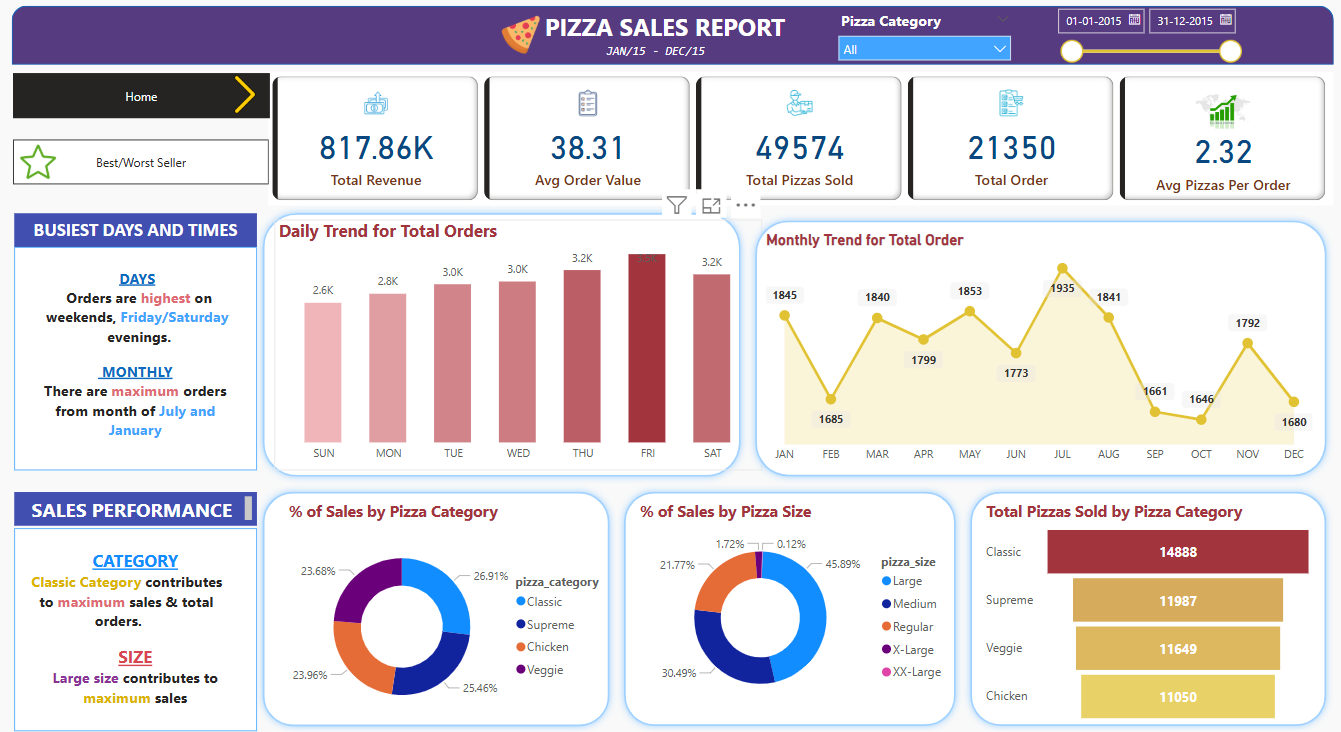

The dashboard page shown, as its layout file describes it:
{"tool":"powerbi","page":{"name":"Home","canvas":[1500,820],"ordinal":0},"visuals":[{"type":"cardVisual","fields":{"Data":["pizza_sales.Total Revenue","pizza_sales.Avg Order Value","pizza_sales.Total Pizzas Sold","pizza_sales.Total Order","pizza_sales.Avg Pizzas Per Order"]},"box":[301.2,83.8,1187.5,148.8],"z":0},{"type":"shape","box":[15.7,10,1472.9,65.7],"z":1000},{"type":"textbox","box":[597.5,10,291.2,50],"z":2000},{"type":"textbox","box":[672.5,46.2,132.5,28.8],"z":3000},{"type":"image","box":[555,10,53.8,65],"z":4000},{"type":"shape","box":[287.1,232.9,548.6,310],"z":5000},{"type":"columnChart","title":"Daily Trend for Total Orders","fields":{"Category":["pizza_sales.Order Day"],"Y":["pizza_sales.Total Order"]},"box":[307.1,248.6,544.3,278.6],"z":6000},{"type":"shape","box":[836.2,241.2,652.5,301.2],"z":7000},{"type":"areaChart","title":"Monthly Trend for Total Order","fields":{"Category":["pizza_sales.Order Month"],"Y":["pizza_sales.Total Order"]},"box":[851.2,260,618.8,267.5],"z":8000},{"type":"shape","box":[287.5,542.5,402.5,277.5],"z":9000},{"type":"shape","box":[690,542.9,385.7,277.1],"z":10000},{"type":"shape","box":[1075.7,542.9,412.9,277.1],"z":11000},{"type":"donutChart","title":"% of Sales by Pizza Category","fields":{"Category":["pizza_sales.pizza_category"],"Y":["pizza_sales.Total Revenue"]},"box":[318.6,561.4,371.4,258.6],"z":12000},{"type":"donutChart","title":"% of Sales by Pizza Size","fields":{"Y":["pizza_sales.Total Revenue"],"Series":["pizza_sales.pizza_size"]},"box":[710,561.4,358.6,238.6],"z":13000},{"type":"funnel","title":"Total Pizzas Sold by Pizza Category","fields":{"Category":["pizza_sales.pizza_category"],"Y":["pizza_sales.Total Pizzas Sold"]},"box":[1095.7,561.4,374.3,252.9],"z":14000},{"type":"textbox","box":[17.5,241.2,270,37.5],"z":15000},{"type":"textbox","box":[17.5,278.8,270,248.8],"z":16000},{"type":"textbox","box":[17.5,551.2,270,37.5],"z":17000},{"type":"textbox","box":[17.5,592.5,270,227.5],"z":18000},{"type":"slicer","fields":{"Values":["pizza_sales.pizza_category"]},"box":[926.2,10,212.5,65],"z":19000},{"type":"slicer","fields":{"Values":["pizza_sales.order_date"]},"box":[1168.8,2.5,226.2,81.2],"z":20000},{"type":"pageNavigator","box":[16.2,85,286.2,50],"z":20001},{"type":"pageNavigator","box":[16.2,158.8,285,50],"z":20002},{"type":"image","box":[248.8,80,52.5,58.8],"z":20003},{"type":"image","box":[16.2,158.8,56.2,50],"z":20004}]}

Visuals, with their boxes in screenshot pixels (x1, y1, x2, y2), scaled from the page's 1500x820 canvas onto the 1341x732 screenshot:
cardVisual - pizza_sales.Total Revenue x pizza_sales.Avg Order Value: detection(269, 75, 1331, 208)
shape: detection(14, 9, 1331, 68)
textbox: detection(534, 9, 794, 54)
textbox: detection(601, 41, 720, 67)
image: detection(496, 9, 544, 67)
shape: detection(257, 208, 747, 485)
"Daily Trend for Total Orders" columnChart: detection(275, 222, 761, 471)
shape: detection(748, 215, 1331, 484)
"Monthly Trend for Total Order" areaChart: detection(761, 232, 1314, 471)
shape: detection(257, 484, 617, 731)
shape: detection(617, 485, 962, 731)
shape: detection(962, 485, 1331, 731)
"% of Sales by Pizza Category" donutChart: detection(285, 501, 617, 731)
"% of Sales by Pizza Size" donutChart: detection(635, 501, 955, 714)
"Total Pizzas Sold by Pizza Category" funnel: detection(980, 501, 1314, 727)
textbox: detection(16, 215, 257, 249)
textbox: detection(16, 249, 257, 471)
textbox: detection(16, 492, 257, 526)
textbox: detection(16, 529, 257, 731)
slicer - pizza_sales.pizza_category: detection(828, 9, 1018, 67)
slicer - pizza_sales.order_date: detection(1045, 2, 1247, 75)
pageNavigator: detection(14, 76, 270, 121)
pageNavigator: detection(14, 142, 269, 186)
image: detection(222, 71, 269, 124)
image: detection(14, 142, 65, 186)
